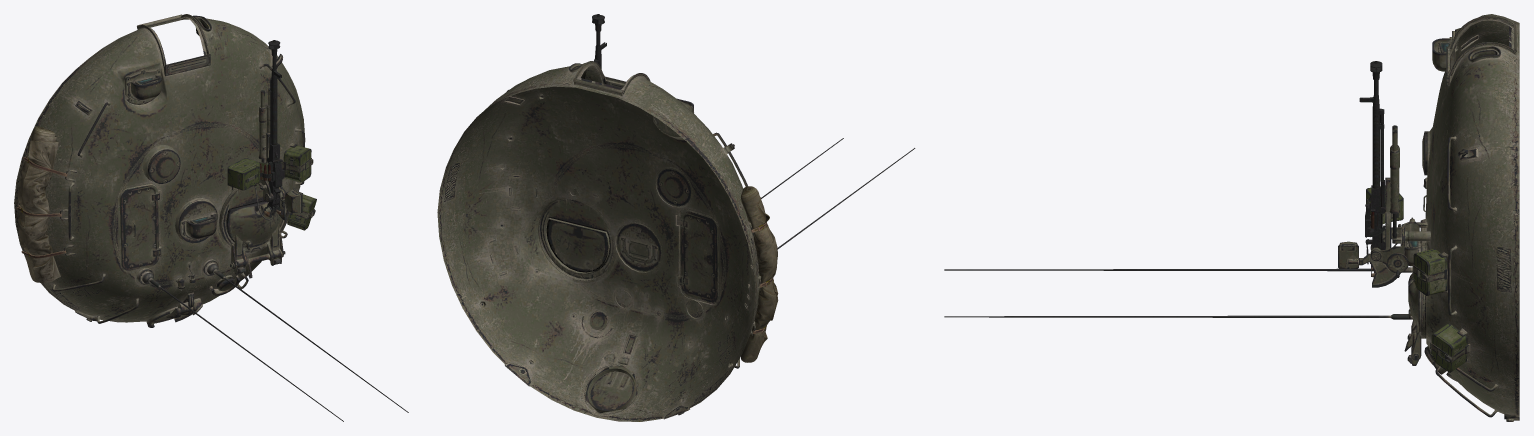
The model's file is Turret_01.glb.
3 renders of one model, left to right at view 1: azimuth 30°, elevation 25°; view 2: azimuth 150°, elevation 25°; view 3: azimuth 270°, elevation 25°, orthographic. The views are drawn at different scales.
Parts seen in each view (by area): view 1: set_0_group_0; view 2: set_0_group_0; view 3: set_0_group_0.
Boxes of the visible parts, x1,y1,x2,y2 form: set_0_group_0: (14, 14, 408, 421); set_0_group_0: (437, 14, 915, 421); set_0_group_0: (944, 14, 1519, 421).
Size of the model in its own units: 2.88 by 2.9 by 4.02.
Materials: 1 (1 with a texture image).
